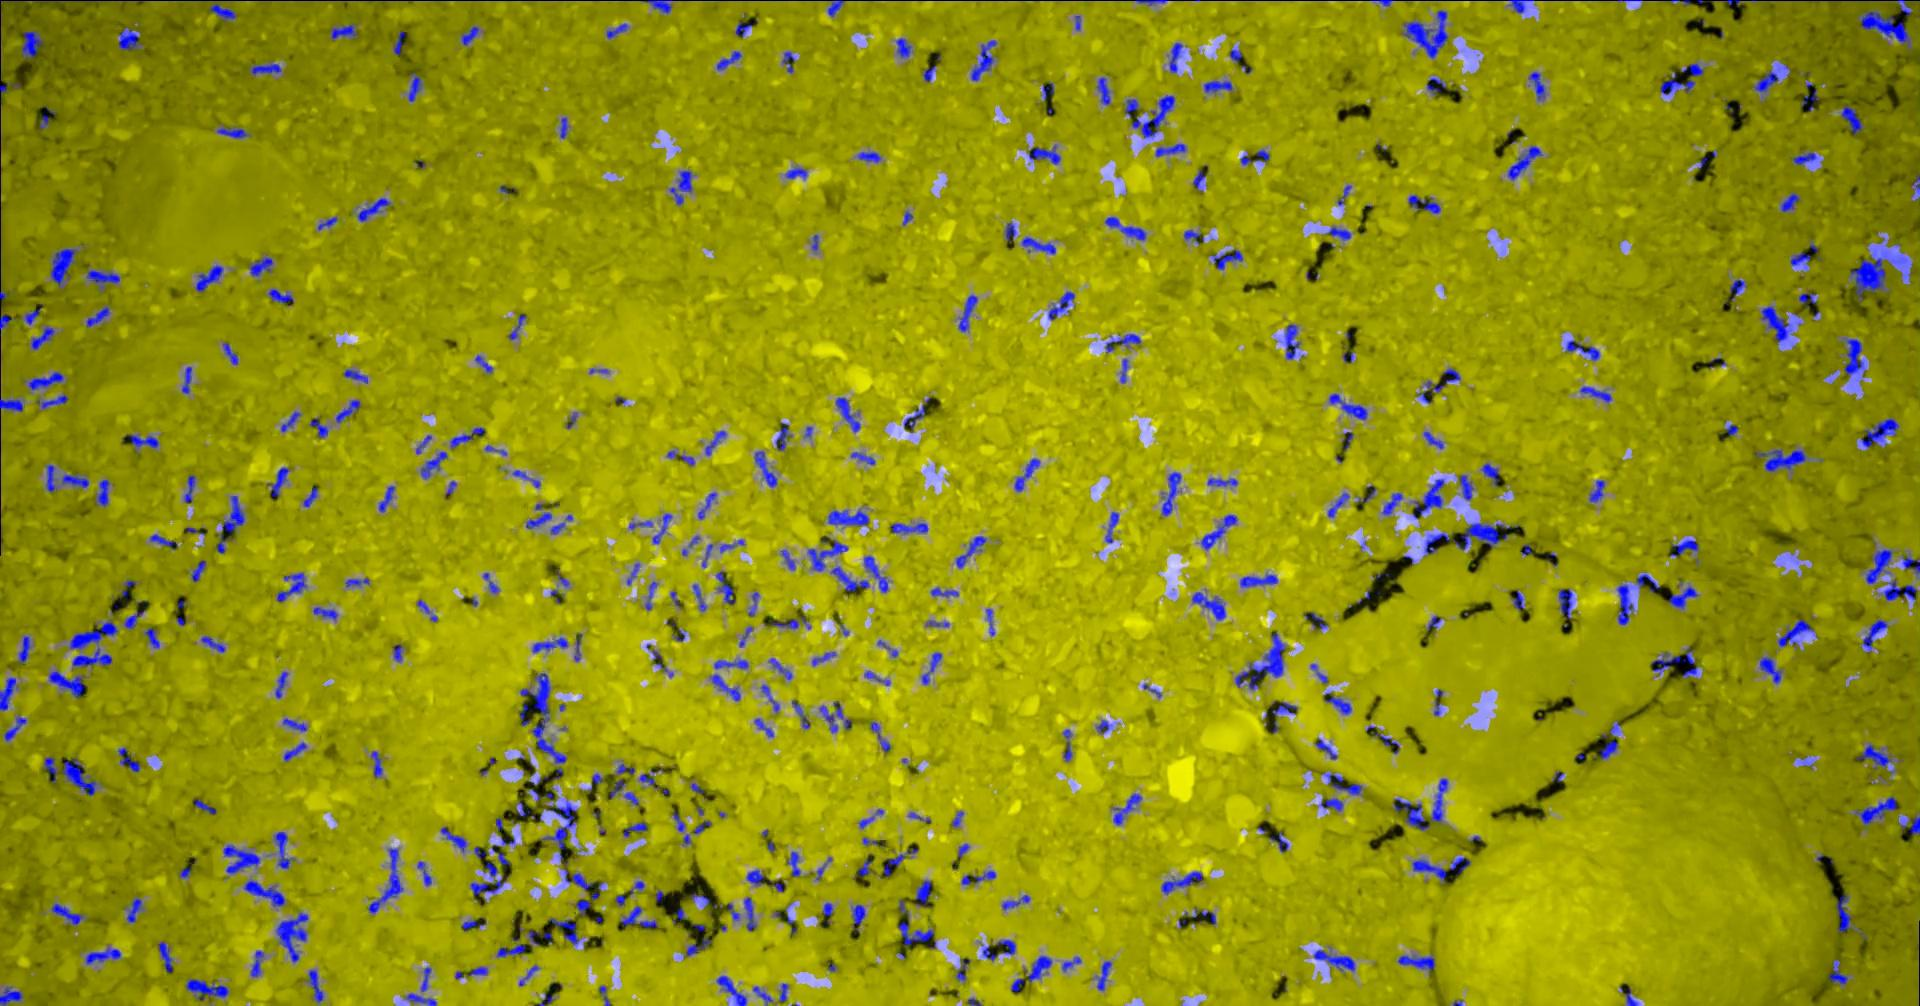ant: (521, 672, 568, 779), (1851, 243, 1909, 301), (1236, 633, 1288, 688), (1426, 522, 1520, 553), (370, 847, 404, 913), (542, 800, 578, 862), (1404, 9, 1449, 58), (44, 756, 98, 795), (1862, 10, 1912, 50), (1133, 94, 1176, 137), (218, 495, 246, 553), (277, 912, 309, 962), (1653, 647, 1698, 678), (1013, 955, 1053, 991), (808, 539, 850, 572), (71, 620, 119, 648), (1413, 478, 1445, 518), (1203, 514, 1239, 549), (1509, 145, 1544, 179), (1857, 796, 1898, 824), (1757, 448, 1808, 471), (1763, 305, 1792, 344), (1396, 798, 1431, 829), (1862, 418, 1900, 447), (50, 669, 88, 699), (971, 39, 998, 80), (225, 843, 262, 873), (1330, 392, 1369, 419), (245, 880, 286, 906), (1192, 591, 1227, 620), (52, 248, 77, 287), (1779, 619, 1815, 647), (1106, 216, 1147, 240), (471, 875, 509, 901), (1867, 549, 1895, 583), (187, 978, 230, 1000), (1163, 871, 1204, 894), (957, 536, 987, 568), (1862, 619, 1890, 652), (832, 567, 870, 591), (1857, 744, 1895, 768), (278, 572, 309, 601), (717, 976, 748, 1005), (865, 555, 889, 592), (1115, 793, 1143, 824), (1845, 337, 1867, 377), (1316, 949, 1356, 970), (899, 921, 935, 945), (565, 862, 596, 890), (1323, 772, 1363, 794), (756, 450, 778, 486), (622, 904, 659, 927), (837, 398, 862, 431), (1016, 459, 1041, 492), (670, 170, 695, 205), (358, 197, 392, 221), (1163, 471, 1182, 514), (1661, 71, 1697, 94), (201, 0, 237, 22), (452, 426, 486, 448), (1413, 859, 1448, 882), (551, 917, 580, 944), (1601, 721, 1622, 760), (74, 647, 113, 666), (1837, 893, 1857, 932), (276, 831, 296, 868), (197, 264, 225, 291), (1049, 291, 1076, 319), (422, 451, 450, 478), (712, 674, 742, 700), (960, 293, 979, 332), (1, 69, 22, 104), (1432, 779, 1449, 822), (442, 826, 469, 852), (1618, 584, 1636, 624), (822, 701, 844, 732), (124, 434, 160, 453), (1211, 249, 1244, 269), (88, 269, 121, 290), (1884, 579, 1917, 600), (1670, 586, 1699, 608), (1107, 333, 1142, 352), (1030, 144, 1062, 164), (923, 652, 943, 683), (53, 903, 85, 923), (1761, 655, 1784, 683), (29, 371, 65, 389), (1843, 105, 1864, 135), (905, 403, 927, 432), (1410, 194, 1443, 213), (1568, 340, 1601, 359), (829, 509, 870, 525), (1420, 380, 1446, 403), (5, 714, 28, 741), (88, 946, 122, 964), (1399, 954, 1436, 970), (717, 572, 737, 603), (23, 30, 44, 58), (1324, 692, 1352, 714), (871, 721, 891, 751), (1, 677, 19, 710), (119, 25, 143, 50), (337, 399, 361, 423), (1755, 69, 1780, 91), (648, 644, 669, 671), (654, 513, 673, 542), (498, 937, 527, 956), (32, 326, 56, 349), (1375, 730, 1399, 753), (119, 747, 142, 771), (1330, 492, 1351, 517), (1023, 236, 1057, 253), (309, 969, 325, 1002), (1286, 324, 1302, 359), (1670, 539, 1700, 556), (1829, 958, 1849, 984), (698, 492, 717, 520), (792, 700, 811, 728), (535, 636, 569, 652), (272, 467, 290, 497), (717, 50, 743, 70), (763, 683, 781, 711), (251, 254, 274, 276), (1383, 492, 1404, 514), (770, 658, 792, 680), (707, 431, 728, 455), (1581, 386, 1613, 401), (1241, 574, 1279, 587), (687, 937, 712, 956), (1242, 149, 1271, 165), (963, 870, 997, 884), (916, 880, 933, 907), (1317, 738, 1338, 760), (884, 854, 905, 875), (88, 306, 110, 326), (38, 392, 69, 408), (1559, 588, 1575, 619), (1186, 908, 1217, 923), (331, 23, 359, 39), (1530, 71, 1547, 99), (777, 422, 794, 450), (514, 470, 542, 486), (1482, 462, 1501, 486), (1637, 573, 1661, 592), (1, 986, 25, 1005), (510, 314, 528, 339), (1106, 511, 1120, 542), (748, 869, 775, 885), (22, 304, 43, 324), (891, 522, 930, 533), (284, 742, 309, 760), (151, 533, 179, 549), (1003, 894, 1031, 909), (160, 941, 174, 972), (269, 288, 295, 305), (380, 485, 396, 511), (527, 512, 552, 528), (745, 897, 758, 930), (754, 984, 775, 1005), (1802, 89, 1821, 111), (126, 608, 147, 627), (1271, 831, 1290, 852), (409, 72, 423, 102), (1098, 960, 1112, 989), (1305, 611, 1330, 627), (773, 616, 808, 627), (276, 671, 290, 699), (643, 0, 673, 13), (1171, 42, 1183, 72), (1157, 144, 1187, 156), (1782, 192, 1801, 212), (282, 412, 302, 431), (866, 669, 891, 685), (128, 897, 143, 922), (1731, 279, 1749, 301), (493, 843, 510, 865), (218, 127, 251, 138), (223, 342, 240, 365), (196, 798, 218, 814), (1098, 77, 1112, 104), (1462, 474, 1476, 500), (63, 473, 90, 486), (97, 479, 110, 506), (1328, 225, 1352, 240), (521, 965, 540, 984), (311, 417, 329, 437), (1425, 431, 1445, 448), (1312, 663, 1330, 683), (1902, 814, 1920, 835), (1898, 0, 1920, 17), (1903, 555, 1920, 577), (1509, 0, 1537, 13), (695, 584, 709, 610), (623, 822, 649, 836), (789, 851, 803, 876), (251, 950, 265, 976), (1591, 479, 1606, 502), (203, 636, 226, 652), (408, 993, 438, 1005), (462, 25, 480, 44), (476, 354, 494, 373), (1272, 701, 1299, 714), (756, 718, 775, 735), (1622, 986, 1639, 1005), (345, 370, 370, 384), (721, 539, 745, 553), (813, 652, 837, 666), (419, 861, 433, 885), (1205, 80, 1234, 91), (646, 580, 658, 610), (608, 23, 630, 38), (1450, 857, 1472, 873), (251, 64, 283, 74), (314, 606, 339, 619), (1, 398, 24, 412), (47, 464, 58, 492), (185, 474, 197, 502), (20, 635, 32, 663), (957, 958, 971, 981), (715, 659, 750, 668), (897, 37, 912, 57), (782, 549, 797, 569), (192, 560, 207, 580), (997, 939, 1017, 954), (395, 30, 408, 55), (1794, 152, 1818, 165), (852, 451, 876, 464), (284, 718, 309, 730), (463, 917, 488, 930), (372, 751, 383, 777), (855, 904, 866, 931), (1322, 796, 1343, 810), (829, 0, 847, 17), (1683, 64, 1705, 76), (146, 627, 161, 647), (611, 779, 626, 798), (1194, 169, 1208, 189), (319, 216, 339, 230), (1185, 229, 1205, 243), (1792, 251, 1812, 265), (1064, 729, 1073, 761), (858, 151, 883, 163), (783, 51, 796, 72), (737, 22, 754, 37), (1429, 77, 1446, 93), (183, 366, 193, 392), (1444, 368, 1462, 384), (1209, 478, 1239, 486), (122, 579, 137, 597), (1126, 98, 1140, 117), (305, 486, 319, 506), (1063, 956, 1082, 970), (1, 309, 13, 332), (787, 166, 808, 179), (1512, 589, 1525, 610), (749, 591, 759, 616), (599, 984, 612, 1005), (577, 898, 592, 915), (932, 587, 960, 596), (422, 967, 432, 991), (987, 608, 996, 635), (521, 702, 531, 725), (674, 810, 686, 831), (484, 861, 499, 876), (984, 945, 999, 960), (695, 821, 712, 833), (860, 857, 872, 875), (824, 902, 834, 923), (1006, 222, 1017, 241), (630, 520, 654, 528), (345, 577, 370, 586), (1912, 173, 1920, 201), (1429, 615, 1443, 630), (575, 633, 583, 661), (625, 791, 640, 805), (924, 65, 937, 81), (1043, 83, 1055, 99), (1801, 292, 1817, 305), (1230, 50, 1244, 64), (1097, 719, 1111, 733), (1121, 358, 1129, 384), (1343, 431, 1354, 450), (617, 763, 636, 774), (392, 644, 404, 661), (1137, 0, 1171, 5), (470, 967, 489, 976), (561, 117, 569, 138), (781, 983, 789, 1001), (33, 0, 110, 1), (1829, 0, 1892, 1)
